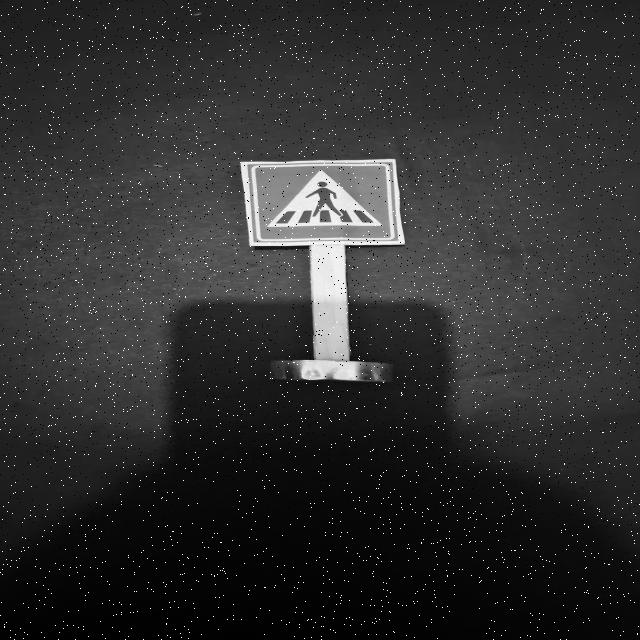Rambu Penyebrangan: (241, 161, 407, 245)
